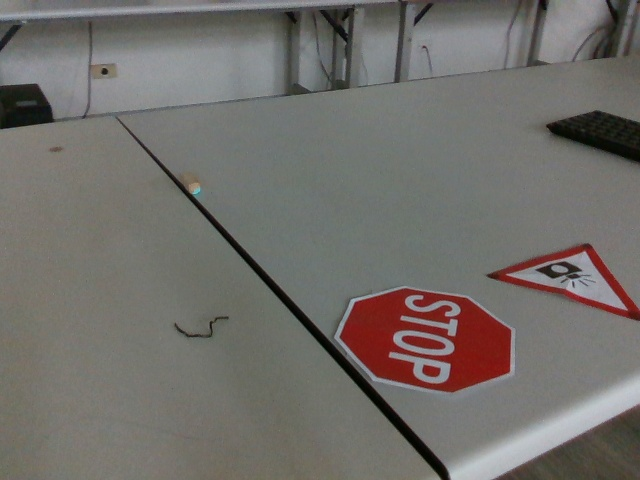camera: (487, 243, 640, 320)
stop: (333, 286, 518, 395)
